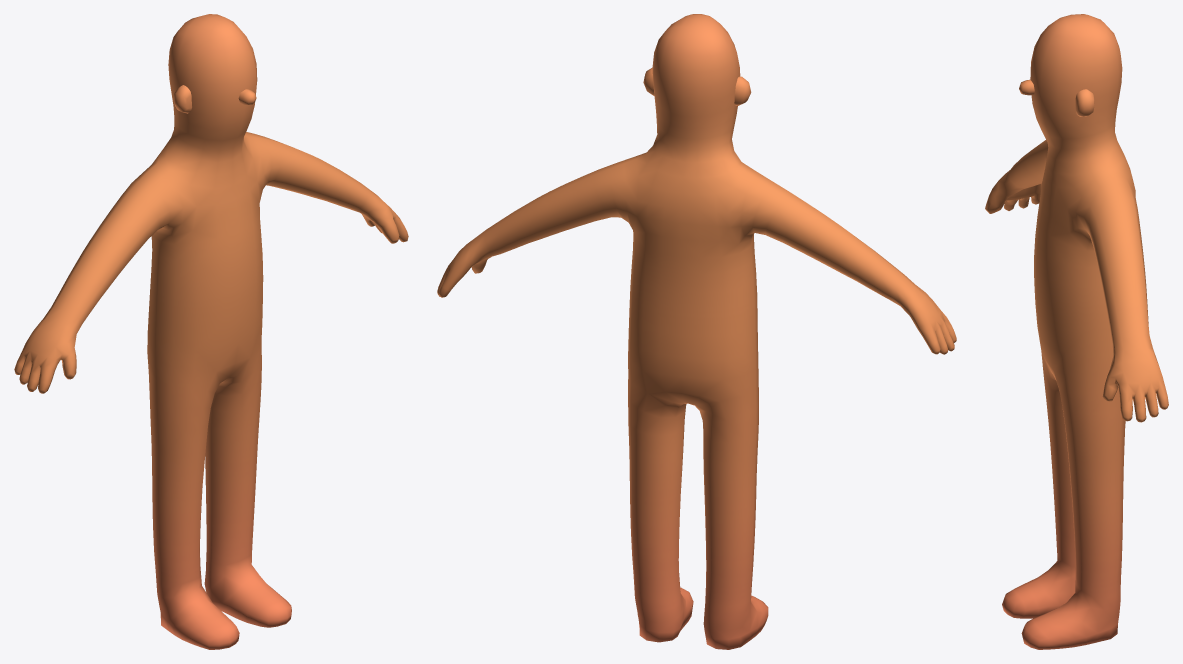
Rendered from Body_010.glb.
The picture shows the model from 3 angles, left to right: view 1: azimuth 30°, elevation 25°; view 2: azimuth 150°, elevation 25°; view 3: azimuth 270°, elevation 25°; orthographic projection. The views are drawn at different scales.
Parts seen in each view (by area): view 1: Body_010; view 2: Body_010; view 3: Body_010.
Part boxes in pixels (x1=…): Body_010: x1=14, y1=14, x2=408, y2=649; Body_010: x1=437, y1=14, x2=956, y2=649; Body_010: x1=985, y1=14, x2=1168, y2=649.
Bounding box in the file's own units: 1.4 × 1.82 × 0.5039.
Materials: 1 (1 with a texture image).
